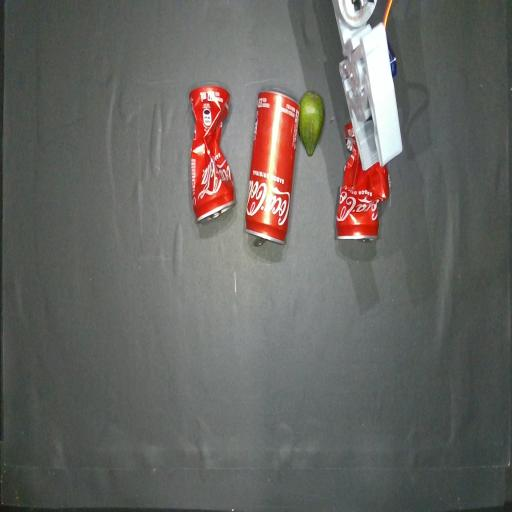higo: (299, 91, 324, 156)
lata: (246, 90, 300, 244)
lata_defectuoso: (189, 84, 236, 221), (336, 124, 389, 239)
